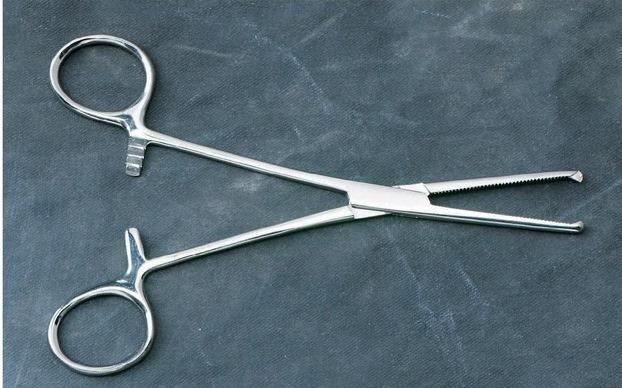Kocher Forceps: (43, 29, 589, 376)
